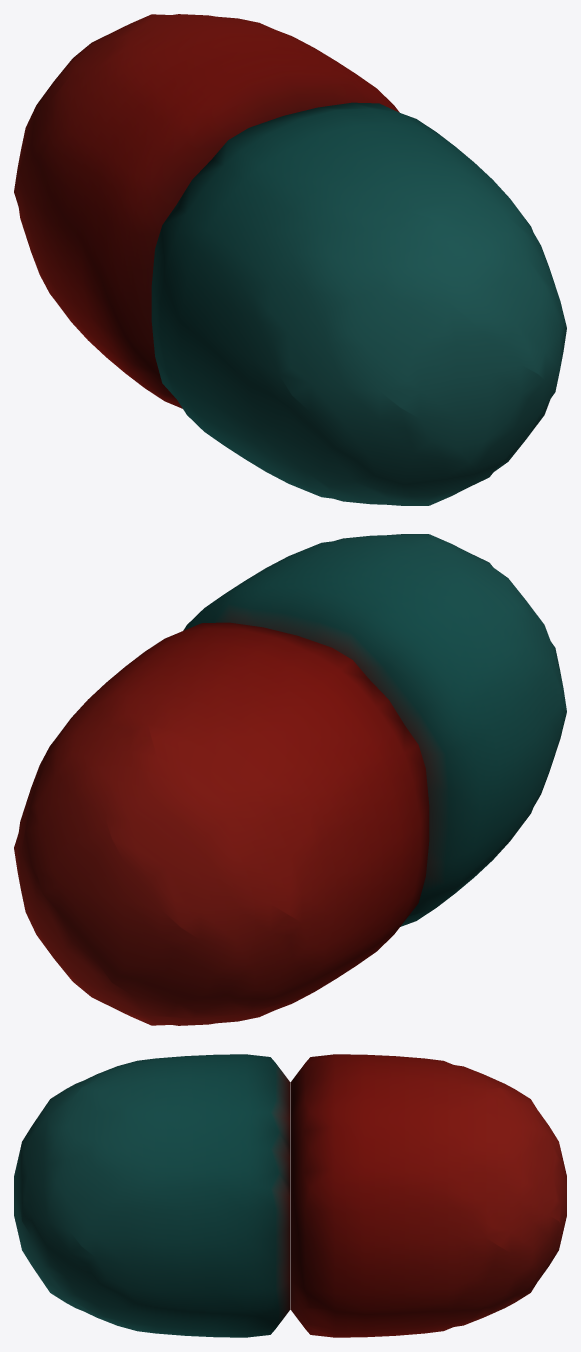
File: Bullet.fbx
The picture shows the model from 3 angles, top to bottom: view 1: azimuth 30°, elevation 25°; view 2: azimuth 150°, elevation 25°; view 3: azimuth 270°, elevation 25°; orthographic projection. The views are drawn at different scales.
Parts seen in each view (by area): view 1: Bullet; view 2: Bullet; view 3: Bullet.
Part boxes in pixels (<box>): Bullet: <box>14,14,566,505</box>; Bullet: <box>14,534,566,1025</box>; Bullet: <box>14,1054,566,1337</box>.
Bounding box in the file's own units: 0.9307 × 0.9307 × 1.85.
